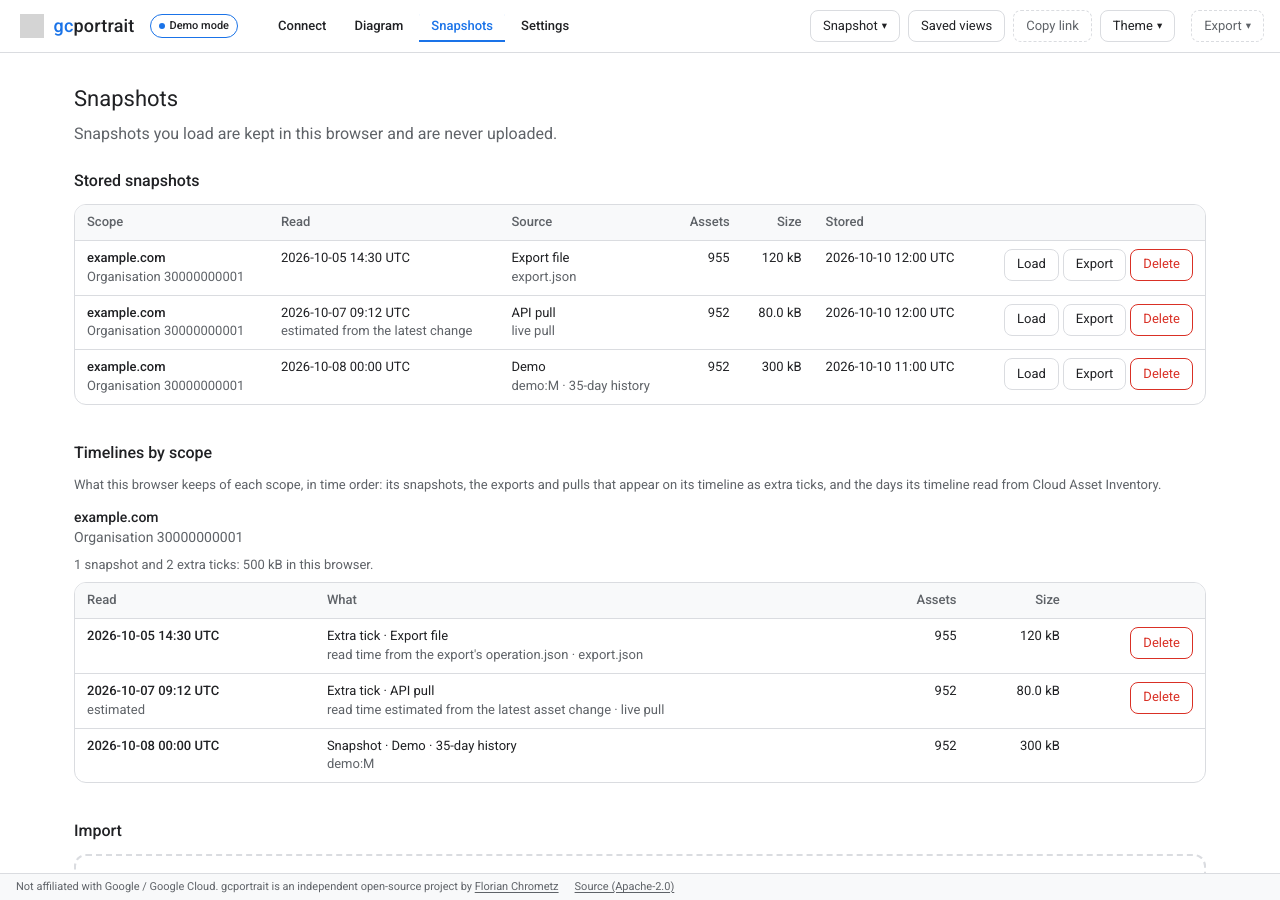
Test: the timelines by scope › deletes an extra tick after a confirmation, then focuses the scope
Click the button with aria-label "Delete the extra tick example.com, read 2026-10-05 14:30 UTC". click: click(1162, 643)
box: x1=1130 y1=627 x2=1193 y2=659
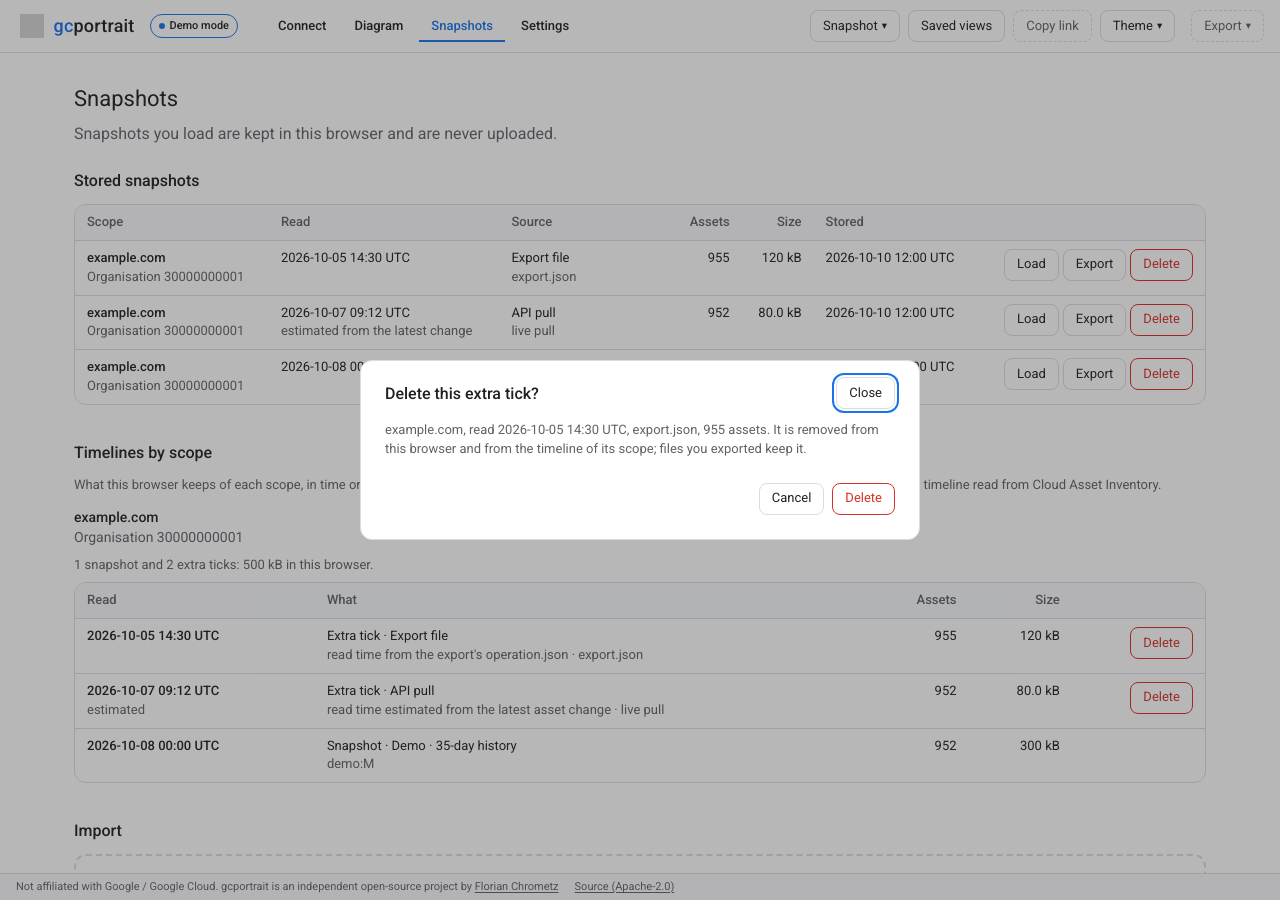
Expected: the dialog "Delete this extra tick?" shows "955 assets", x1=385 y1=422 x2=879 y2=456
Click the button "Cancel". click: click(792, 499)
box: x1=759 y1=483 x2=824 y2=515
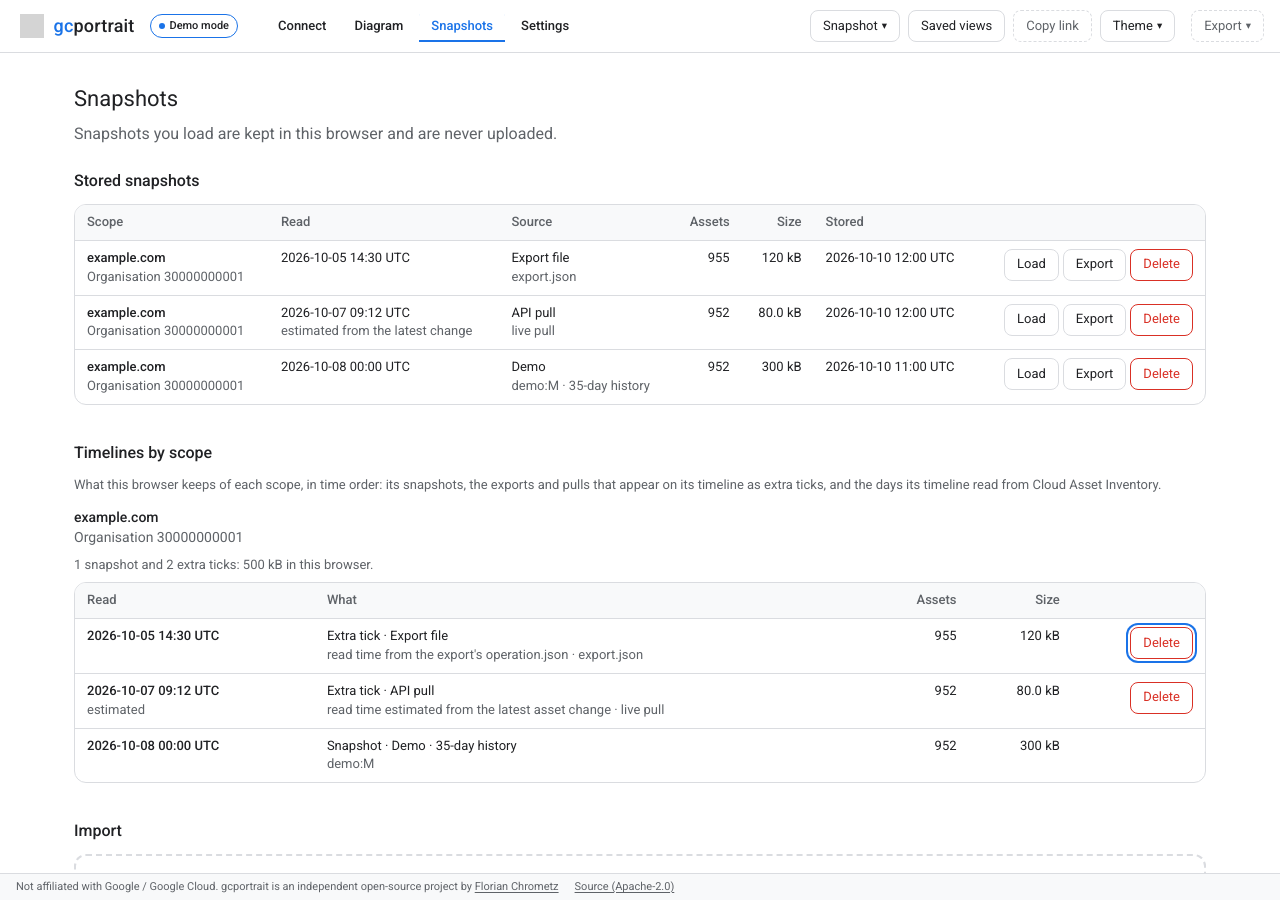
Click the button with aria-label "Delete the extra tick example.com, read 2026-10-05 14:30 UTC". click: click(1162, 643)
box: x1=1130 y1=627 x2=1193 y2=659
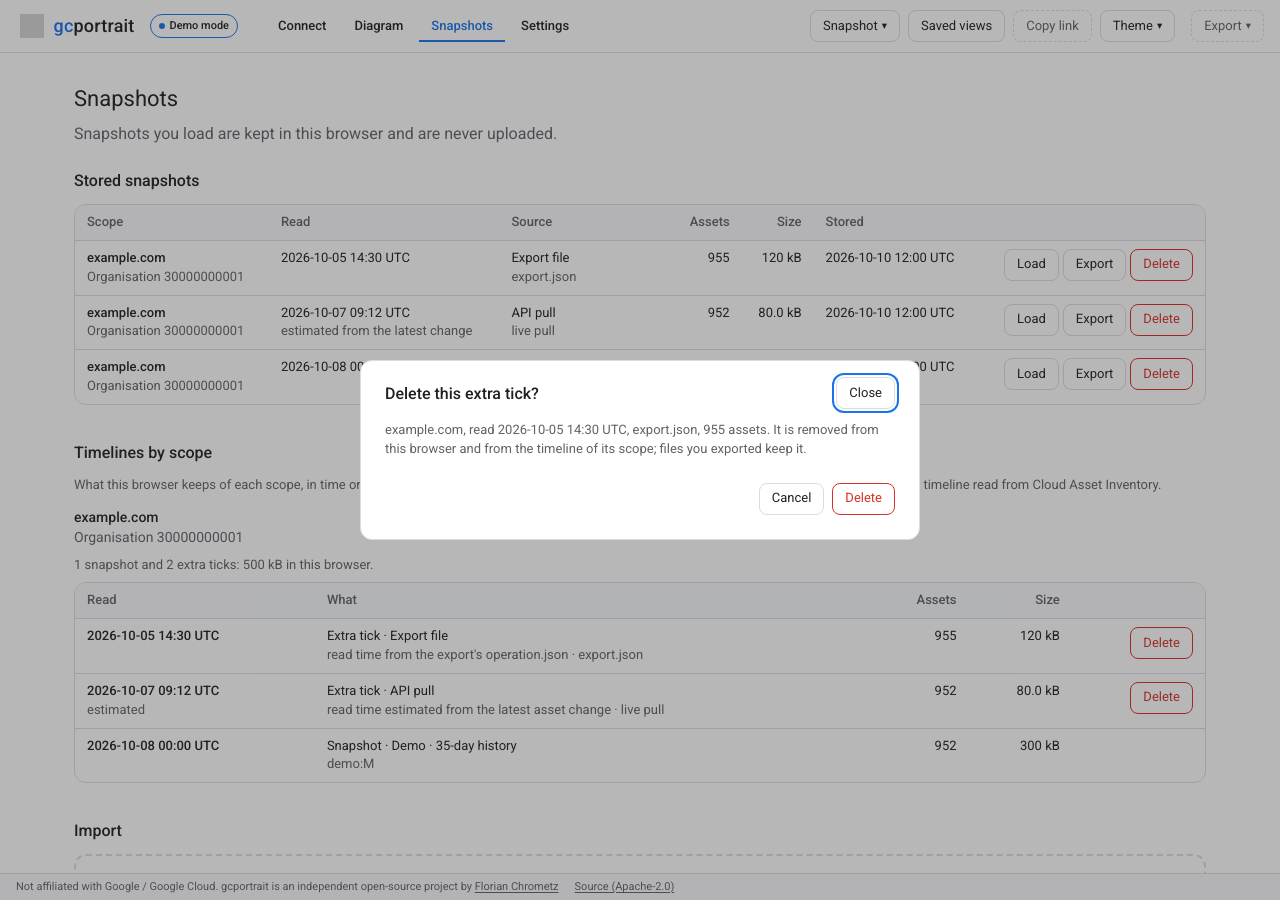
Click the button "Delete". click: click(864, 499)
box: x1=832 y1=483 x2=895 y2=515
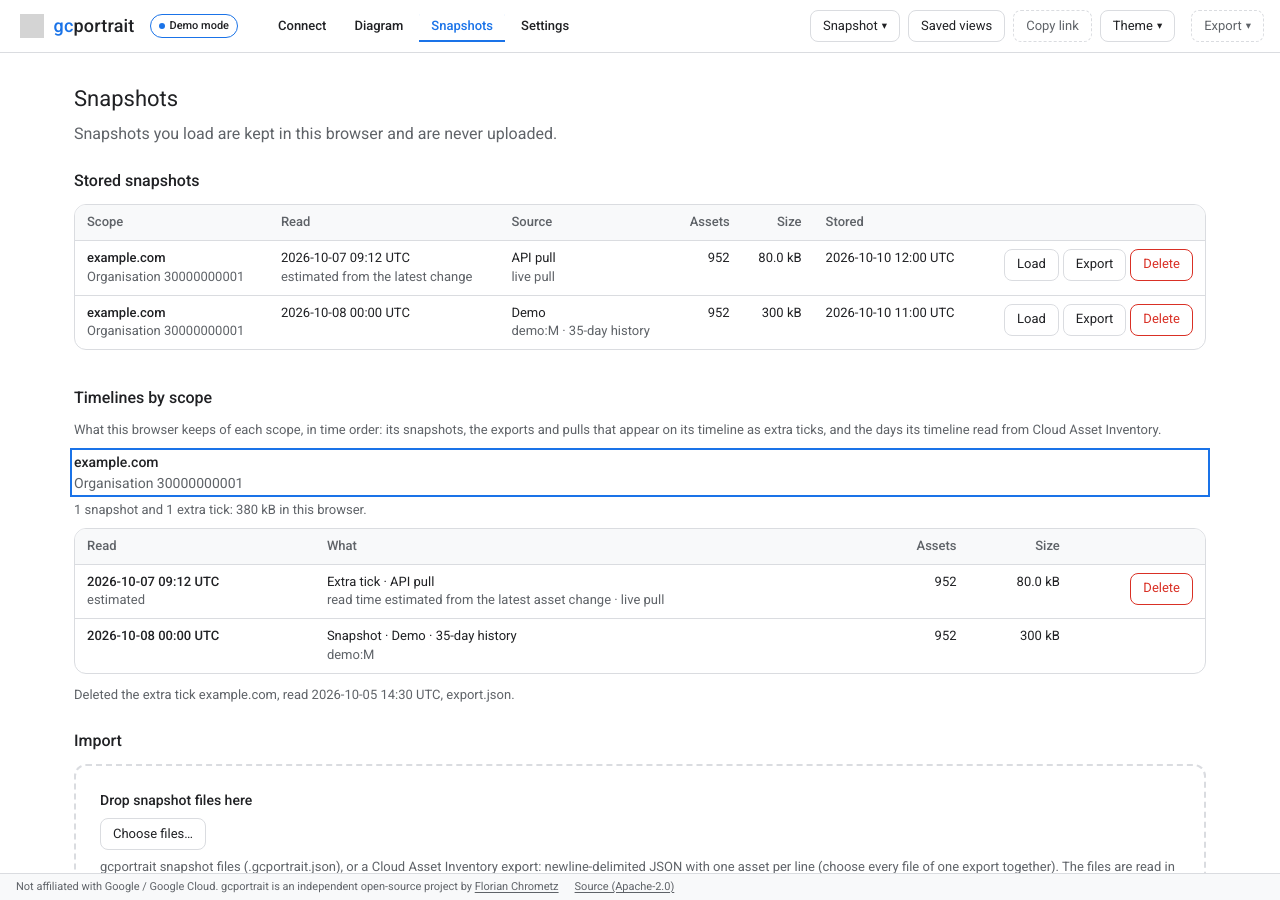
Expected: the message shows "Deleted the extra tick example.com, read 2026-10-05 14:30 UTC", x1=74 y1=687 x2=515 y2=702
